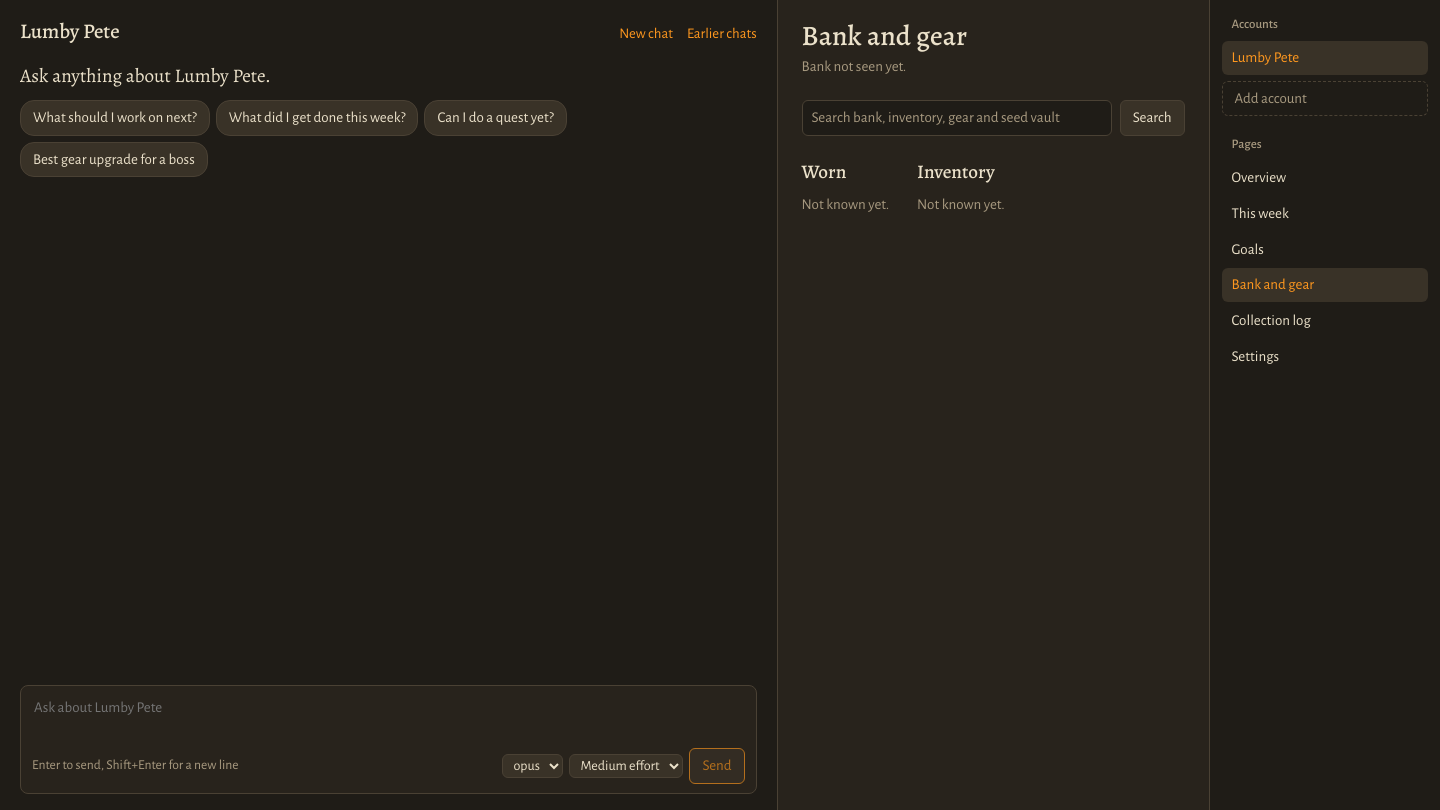
Test case: BankGear › says what it is searching for while it looks
The width and height of the screenshot is (1440, 810).
Type "shark" into the search field.
click(957, 118); type("shark")  # box left=802, top=100, right=1112, bottom=136
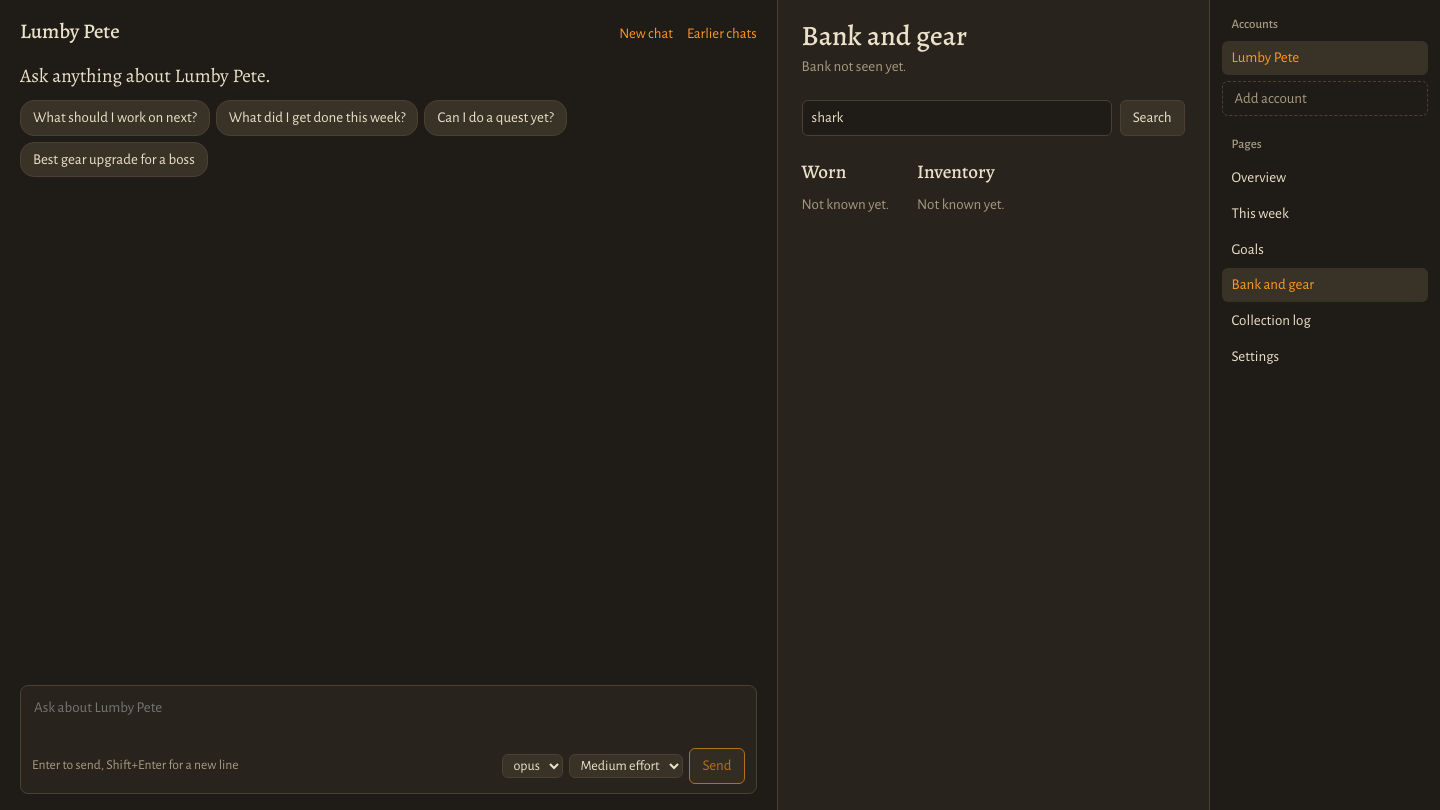
Submit the form from the search field, box left=802, top=100, right=1112, bottom=136
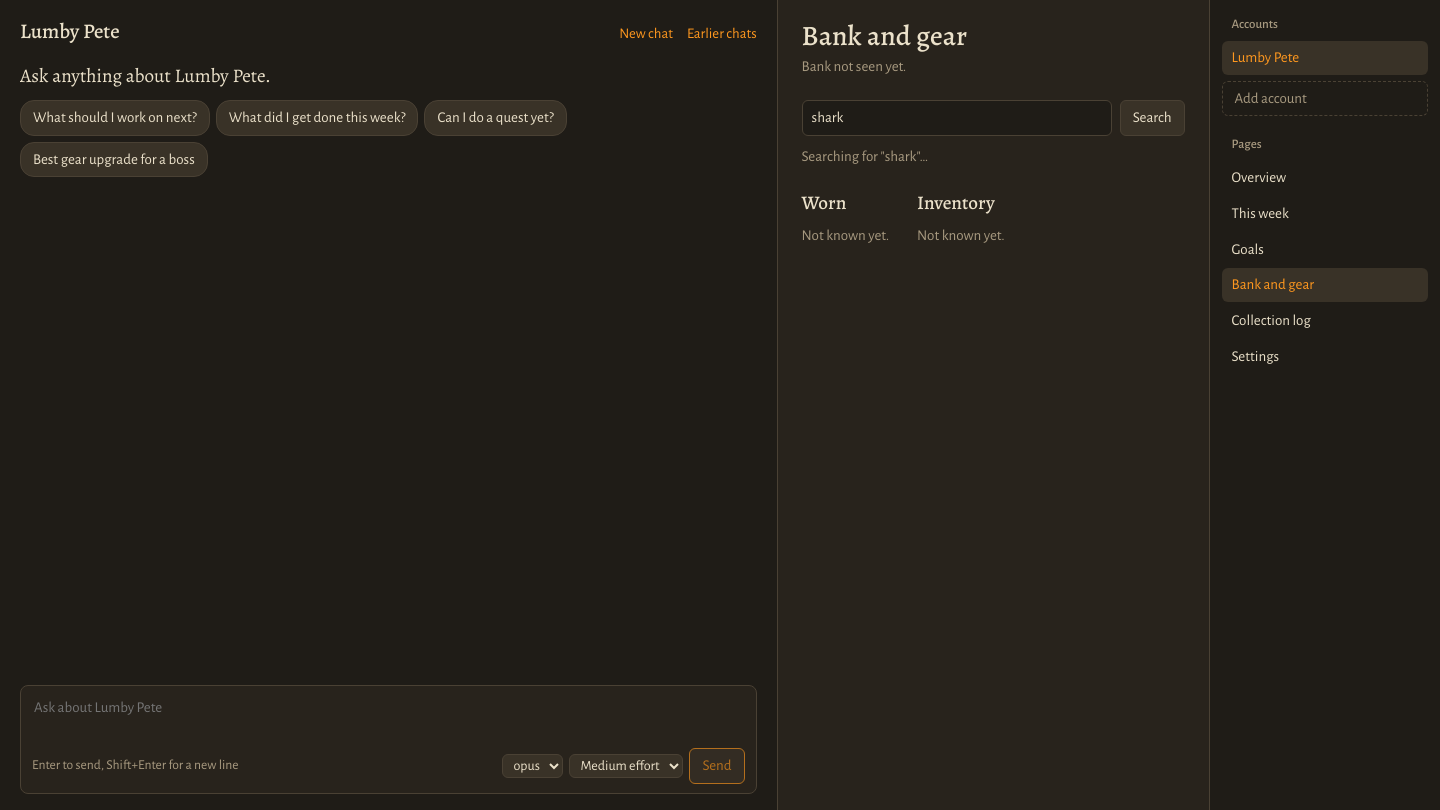
expect the message reads "Searching for \"shark\"…": met, box left=802, top=149, right=928, bottom=164
